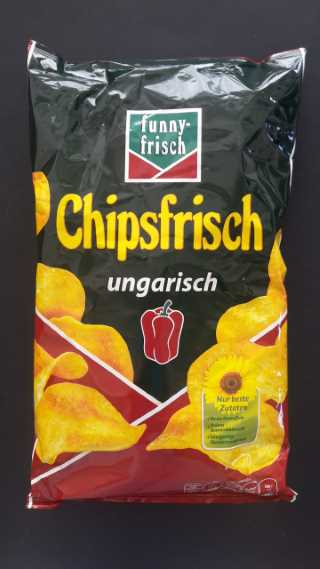chipsfrisch: (25, 39, 307, 510)
